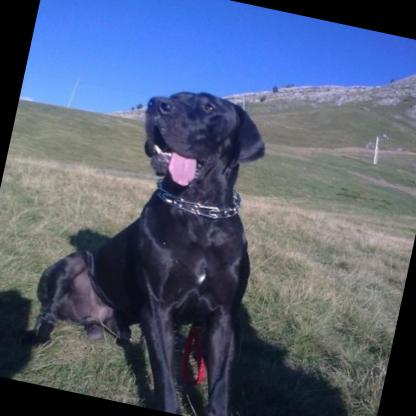Great_Dane: (13, 65, 296, 416)
